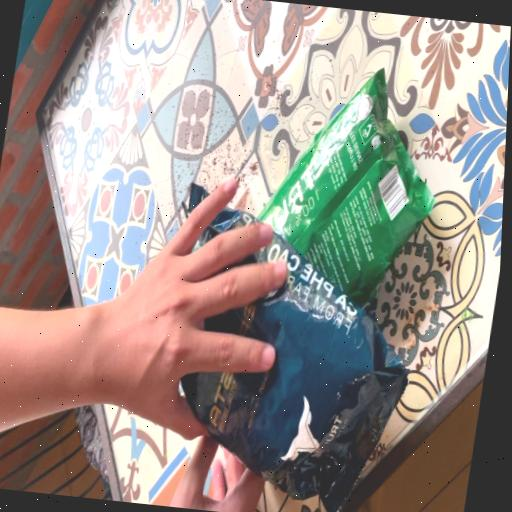cafe_hat: (181, 68, 435, 512), (198, 208, 258, 245), (189, 182, 208, 211)
cafe_xay: (260, 68, 434, 302)
